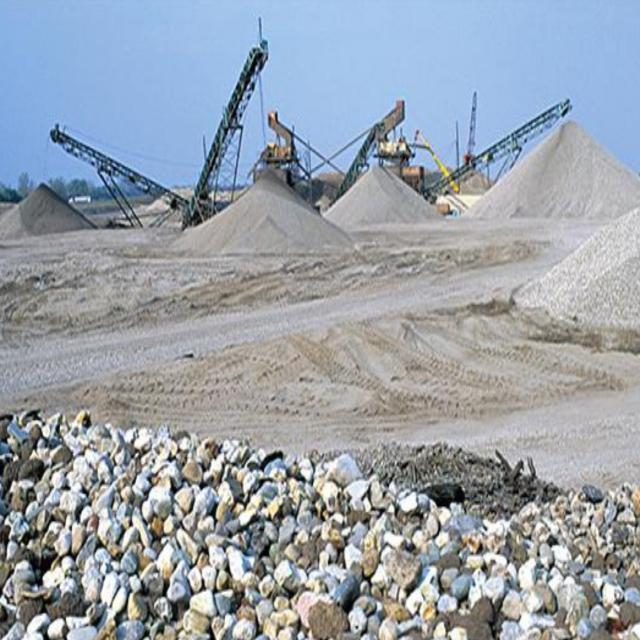rocks: (0, 412, 640, 640)
white-sand: (0, 122, 640, 483)
